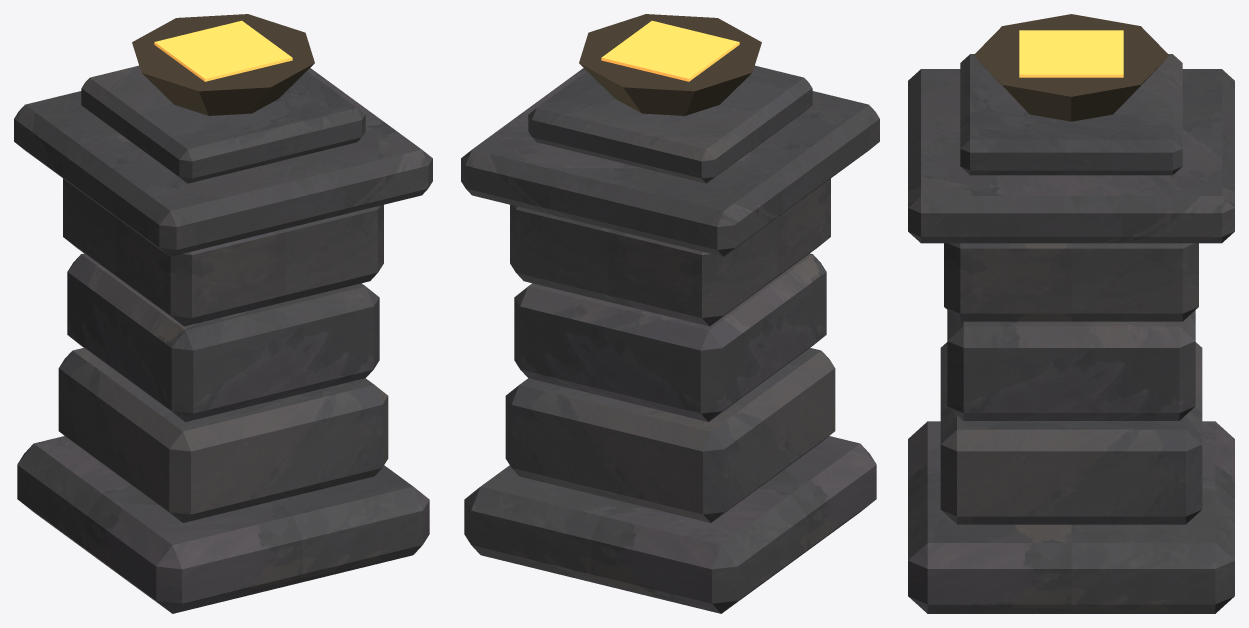
File: bridge-pier.glb
3 views of the same model, side by side, from view 1: azimuth 30°, elevation 25°; view 2: azimuth 150°, elevation 25°; view 3: azimuth 270°, elevation 25° (orthographic). The views are drawn at different scales.
Visible parts, largest first — view 1: bridge-pier; view 2: bridge-pier; view 3: bridge-pier.
Part boxes in pixels (x1,y1,x2,y2): bridge-pier: [14, 14, 432, 613]; bridge-pier: [461, 14, 879, 613]; bridge-pier: [908, 14, 1234, 613].
Size of the model in its own units: 0.5 by 0.845 by 0.5.
6 materials, 4 textured.
